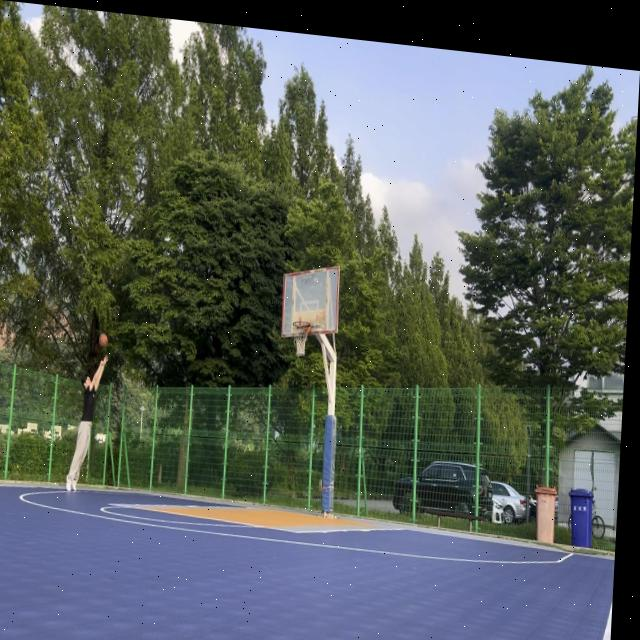basketball: (98, 332, 109, 349)
hoop: (291, 319, 311, 358)
